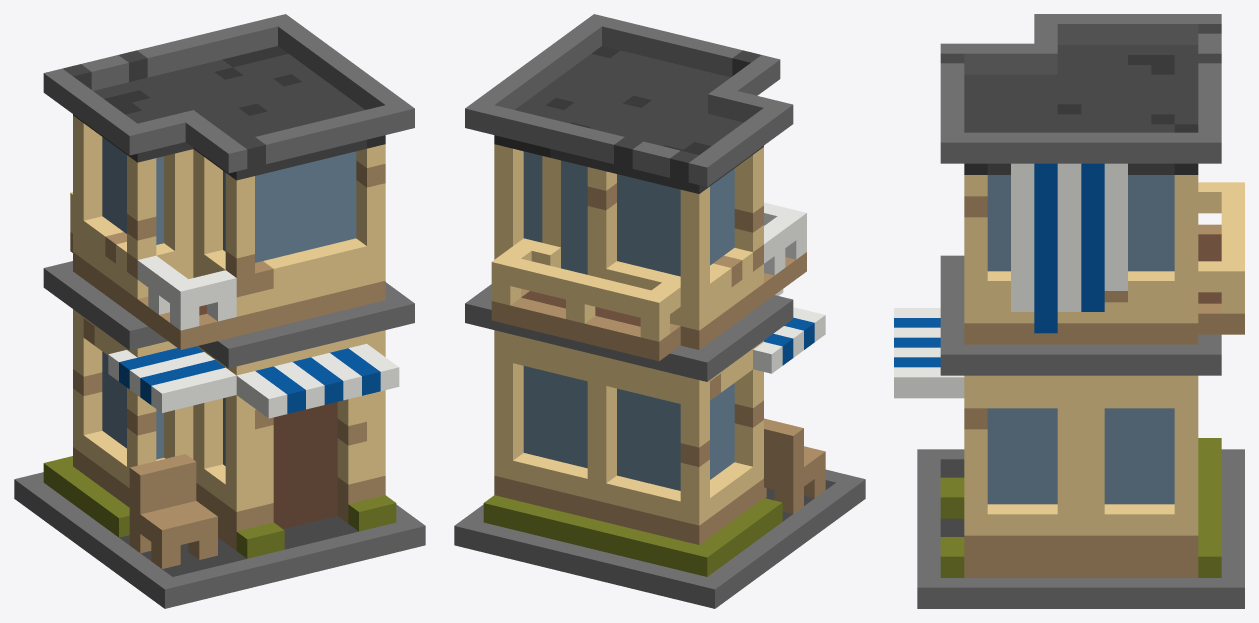
3 renders of one model, left to right at view 1: azimuth 30°, elevation 25°; view 2: azimuth 150°, elevation 25°; view 3: azimuth 270°, elevation 25°, orthographic. The views are drawn at different scales.
Parts seen in each view (by area): view 1: b_14_01; view 2: b_14_01; view 3: b_14_01.
Part boxes in pixels (left/top/right/bottom): b_14_01: left=14, top=14, right=425, bottom=608; b_14_01: left=454, top=14, right=865, bottom=608; b_14_01: left=894, top=14, right=1244, bottom=608.
Bounding box in the file's own units: 14 × 22 × 15.
Materials: 1 (1 with a texture image).
